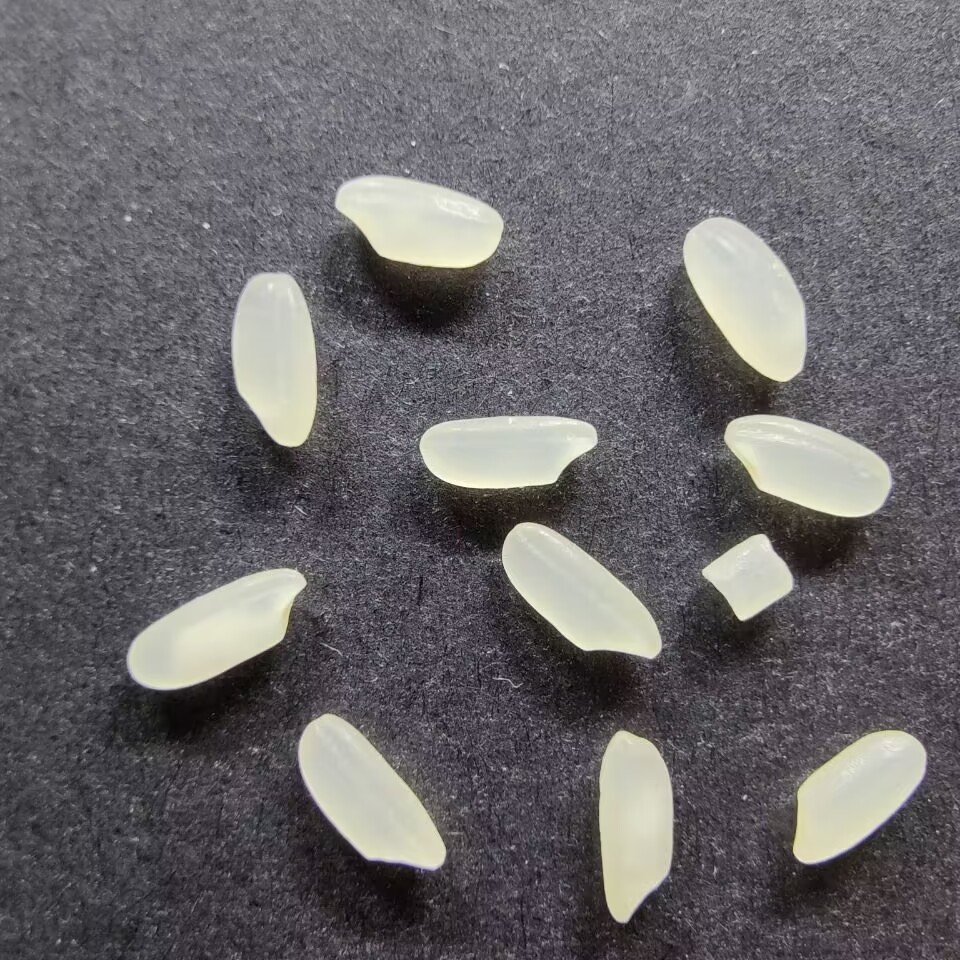broken: (699, 532, 796, 625)
rice: (295, 712, 449, 873), (122, 566, 307, 692), (498, 521, 663, 662), (680, 216, 810, 383), (790, 725, 928, 866), (722, 413, 894, 518), (332, 174, 503, 269), (228, 270, 318, 447), (595, 728, 675, 927), (417, 412, 598, 491)
